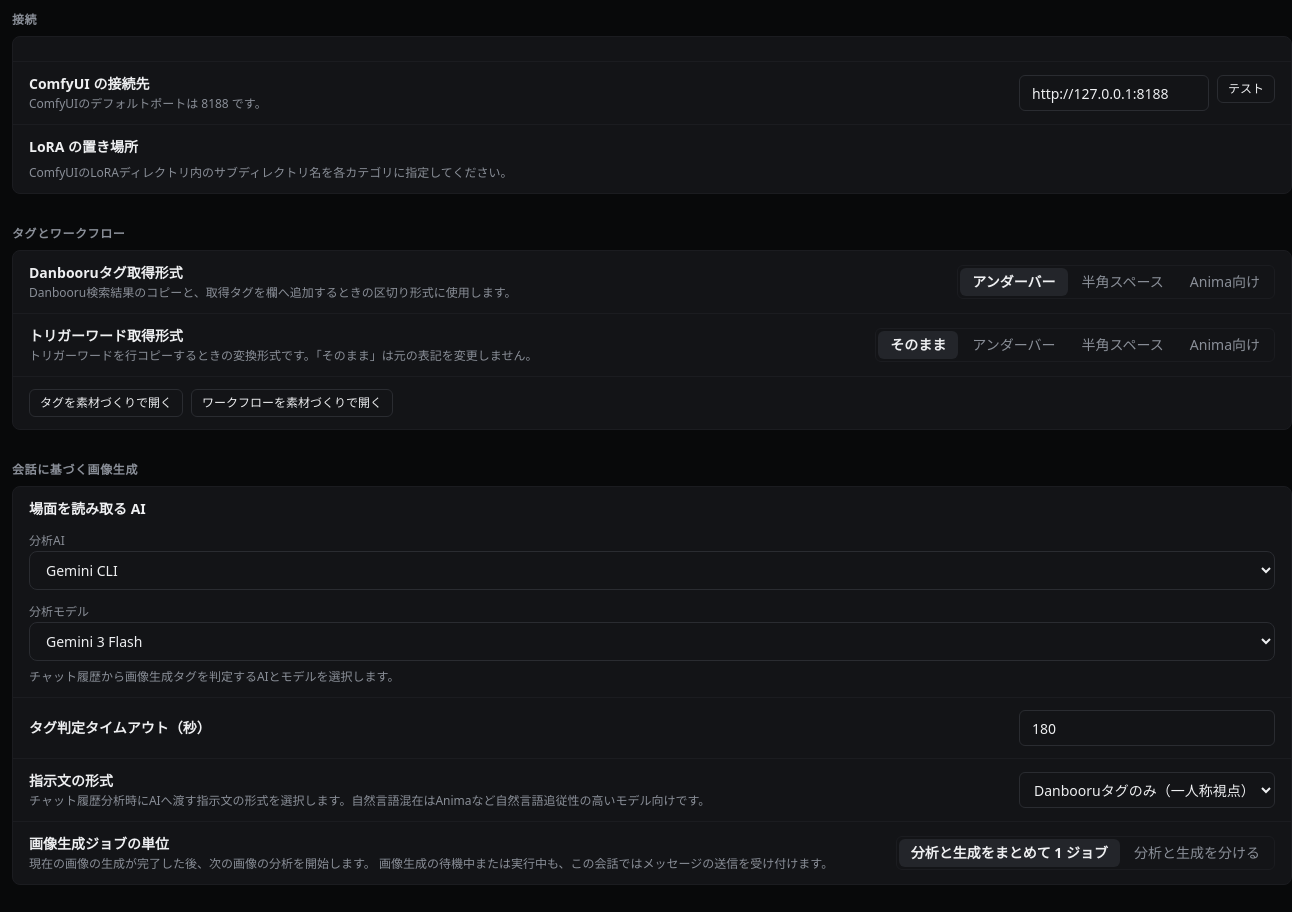
設定画面の画像生成：場面を読み取る AI › API モデルがあれば「接続表示名 / モデル」で選べ、先頭が自動選択されて保存される
Expected: the text "分析AI" is shown, [29,532,65,549]
Select "API（OpenAI互換）" in the dropdown labelled "分析AI" at (652,570), box [29,551,1275,590]
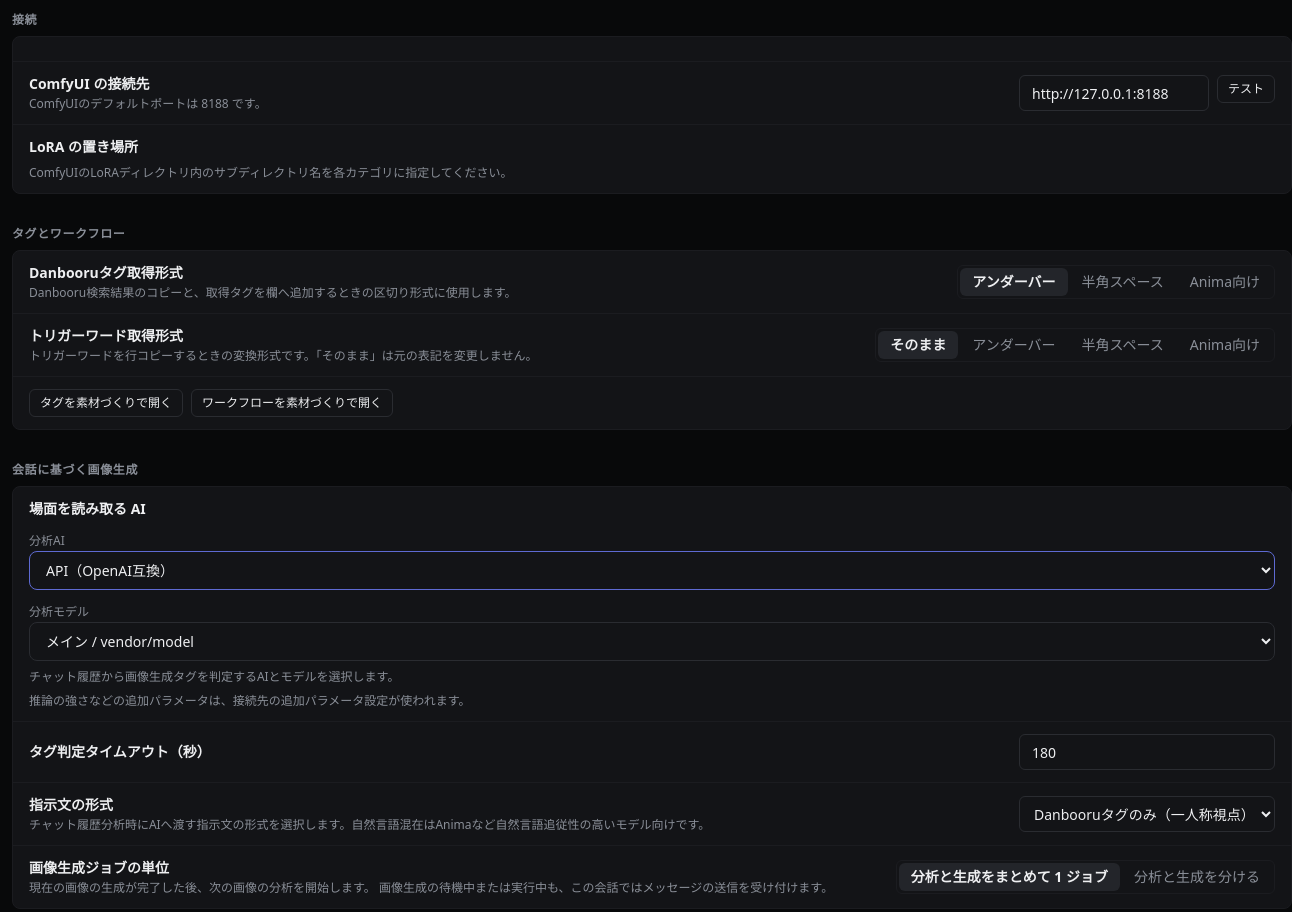
Expected: the dropdown labelled "分析モデル" is enabled, [29,622,1275,661]
Now the dropdown labelled "分析モデル" shows "メイン / vendor/model", box [29,622,1275,661]
